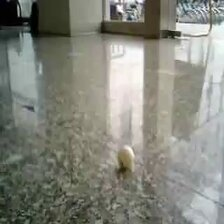w: (117, 144, 137, 168)
